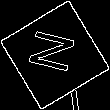N_E: (26, 29, 84, 81)
